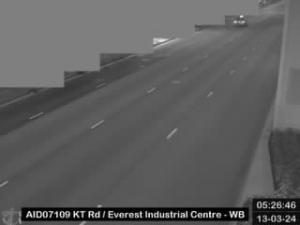vehicle: (232, 15, 248, 27)
